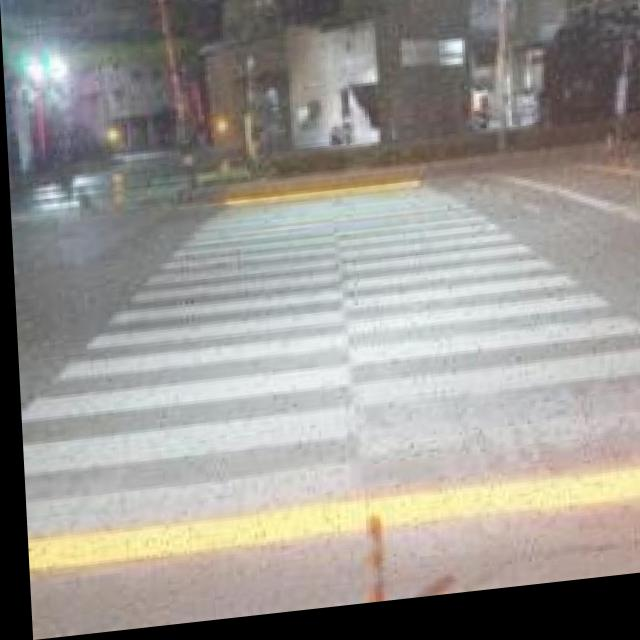zebra: (12, 161, 640, 554)
